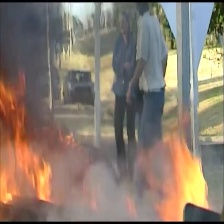fire: (1, 74, 57, 220), (130, 126, 211, 215)
